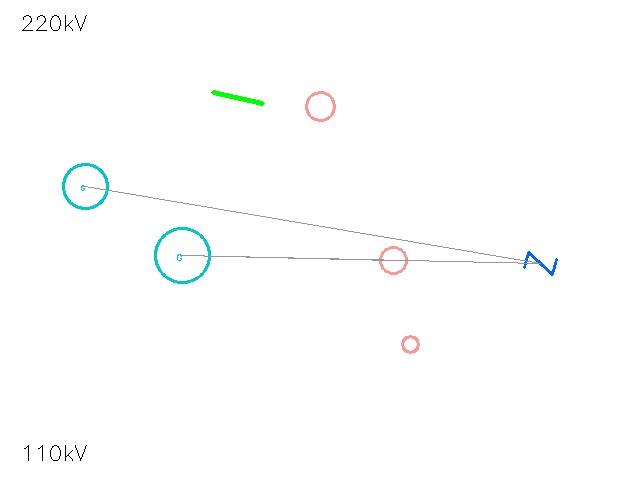busbar: (207, 67, 269, 129)
circuit_breaker: (524, 247, 556, 279)
generator: (155, 228, 209, 282), (63, 164, 107, 208)
reactor: (366, 233, 420, 287)
voltage_transformer: (292, 78, 348, 134), (393, 327, 427, 361)
